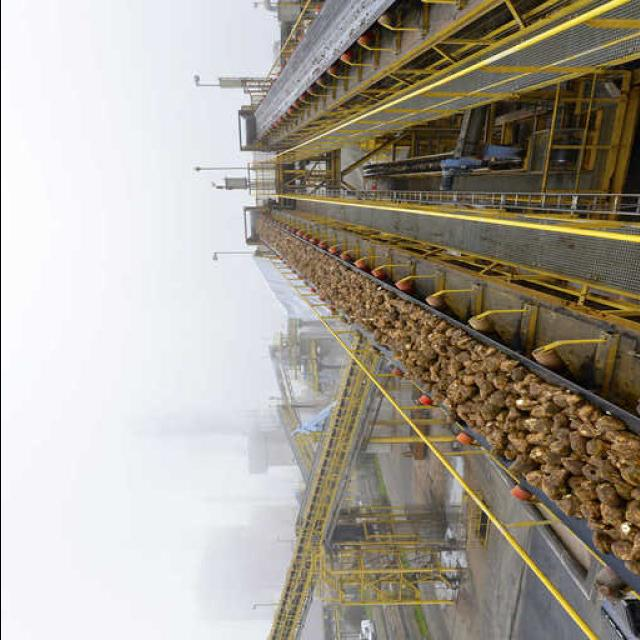conveyor: (249, 213, 640, 614)
